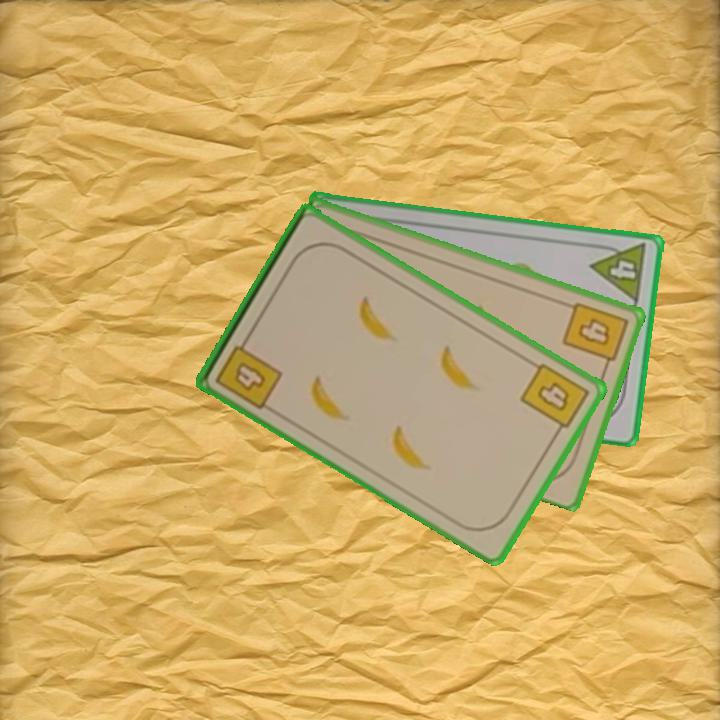4b: (516, 359, 592, 439), (212, 331, 286, 412), (558, 298, 631, 373)
4p: (587, 239, 650, 305)
